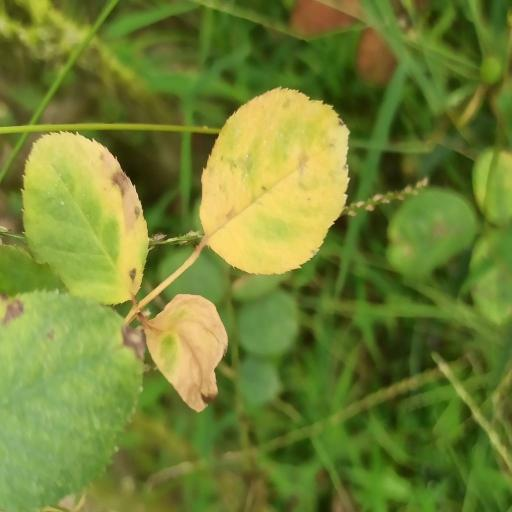healthy_leaf: (0, 292, 142, 512)
thrip: (200, 88, 349, 274), (22, 132, 148, 304), (144, 294, 228, 412)
